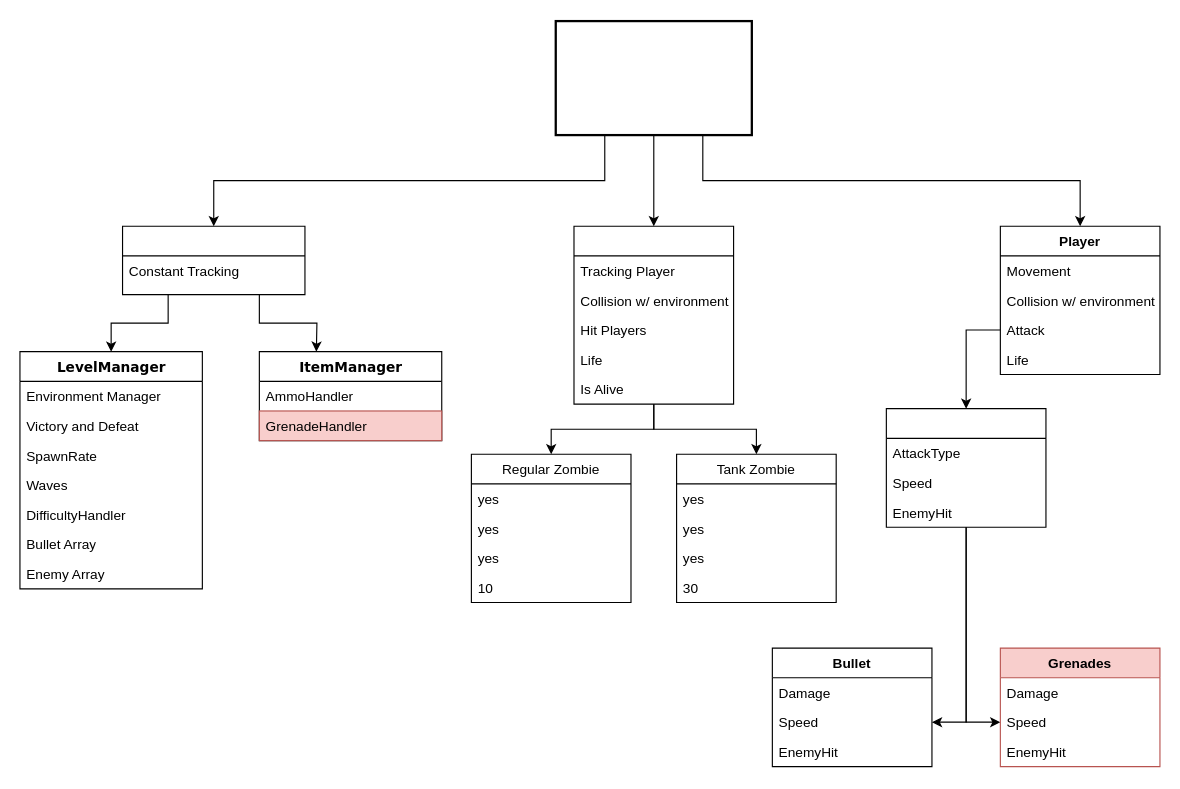
This 1180x789 diagram has some shape labels left out. The box of each missing label's shape, as (x1, y1, x2, y2) in pixels:
Attack Script: (885, 408, 1046, 527)
Boxhead-like Game: (554, 19, 752, 136)
Enemies: (573, 225, 734, 404)
Managers: (121, 225, 305, 295)
